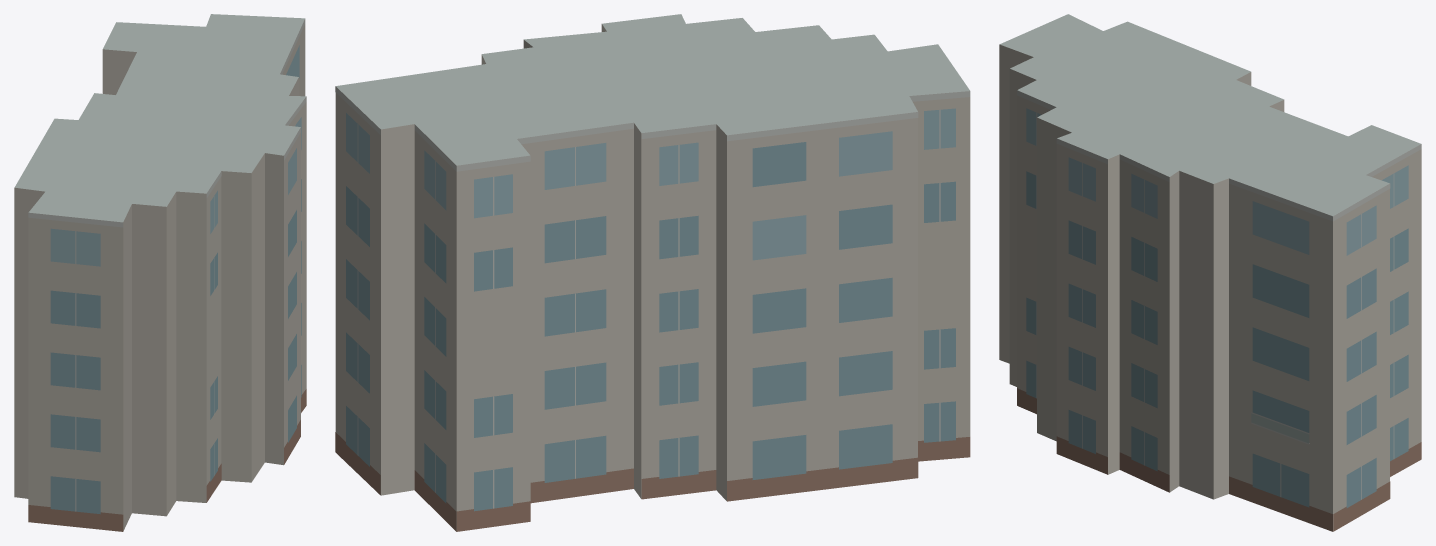
File: survey-upis-32712064.glb
3 renders of one model, left to right at view 1: azimuth 30°, elevation 25°; view 2: azimuth 150°, elevation 25°; view 3: azimuth 270°, elevation 25°, orthographic. The views are drawn at different scales.
Parts seen in each view (by area): view 1: survey-upis-32712064.tmp; view 2: survey-upis-32712064.tmp; view 3: survey-upis-32712064.tmp.
Boxes of the visible parts, <box> form: survey-upis-32712064.tmp: <box>14,14,306,531</box>; survey-upis-32712064.tmp: <box>335,14,970,531</box>; survey-upis-32712064.tmp: <box>999,14,1421,531</box>.
Bounding box in the file's own units: 20.5 × 14.9 × 18.07.
